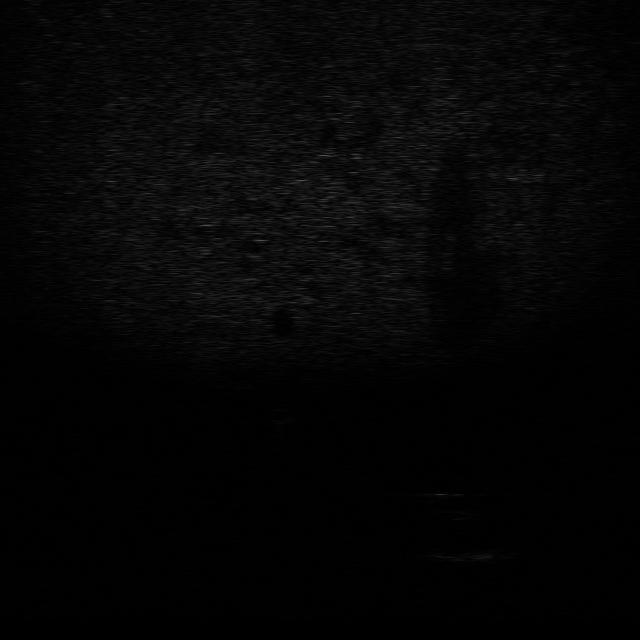ball: (264, 405, 301, 425)
metal bucket: (426, 546, 506, 564)
tyre: (421, 489, 479, 522)
